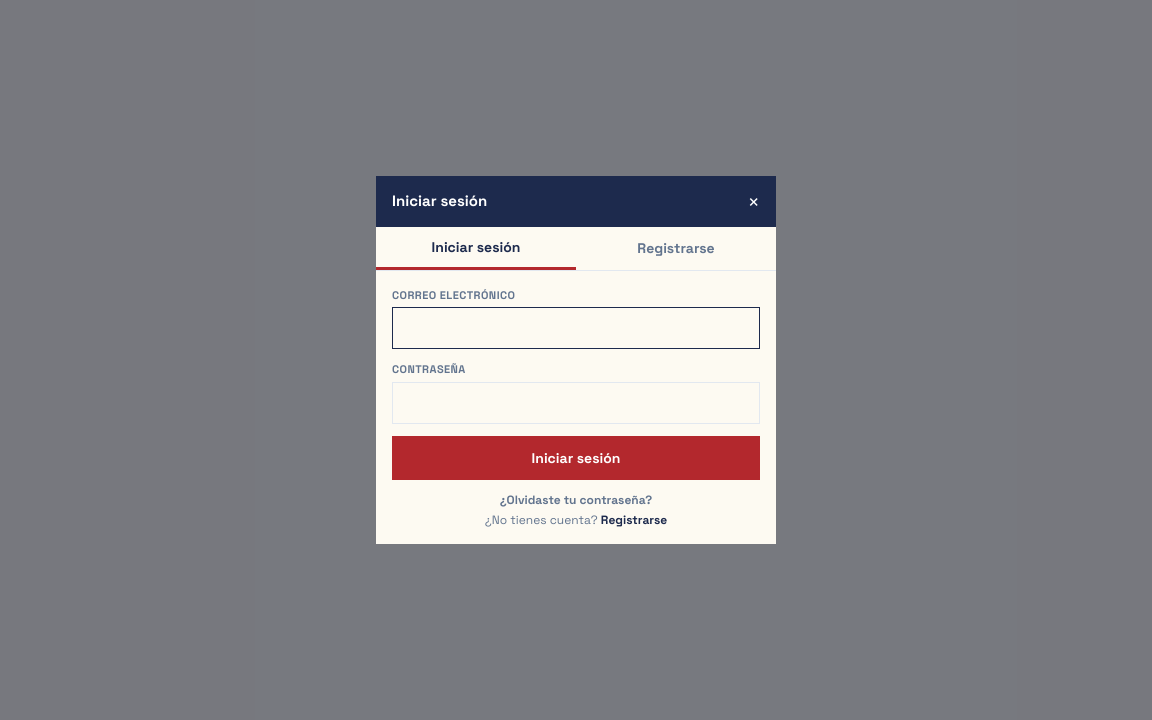
Test: AuthModal › switches to the signup tab showing the name field
This screenshot has width=1152, height=720.
Click the 1st button "Registrarse": (676, 248) [576,227,776,270]
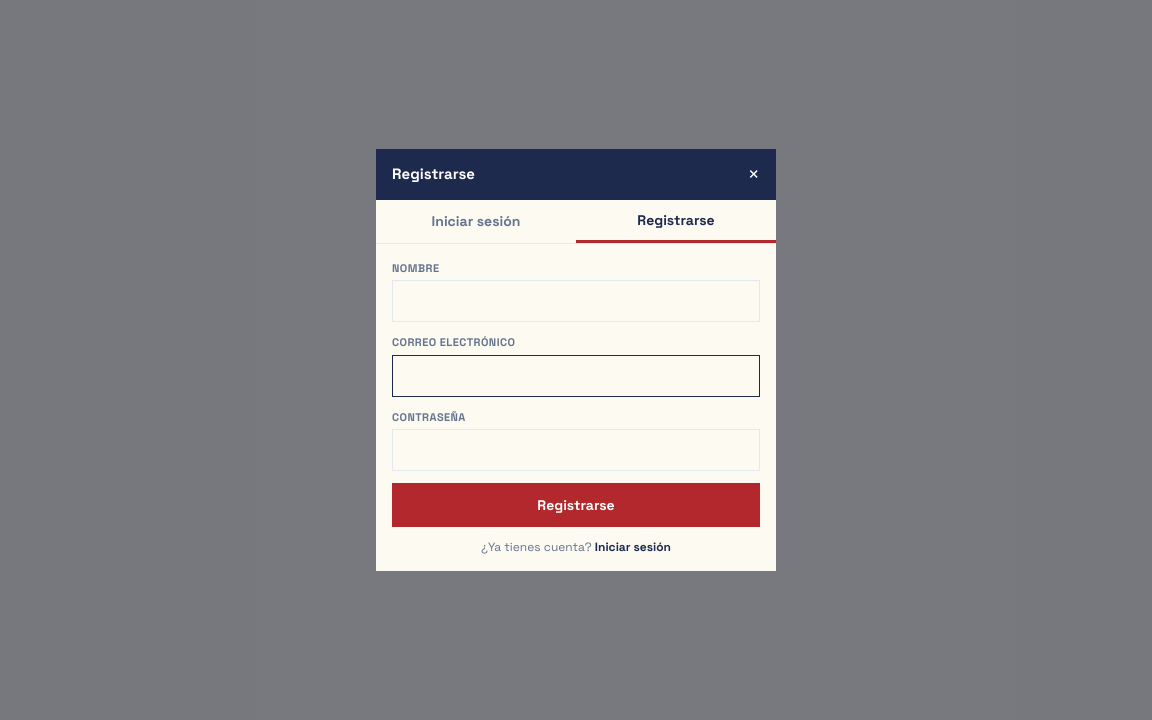
Check: the field labelled "Nombre" is shown, box [392,280,760,322]
